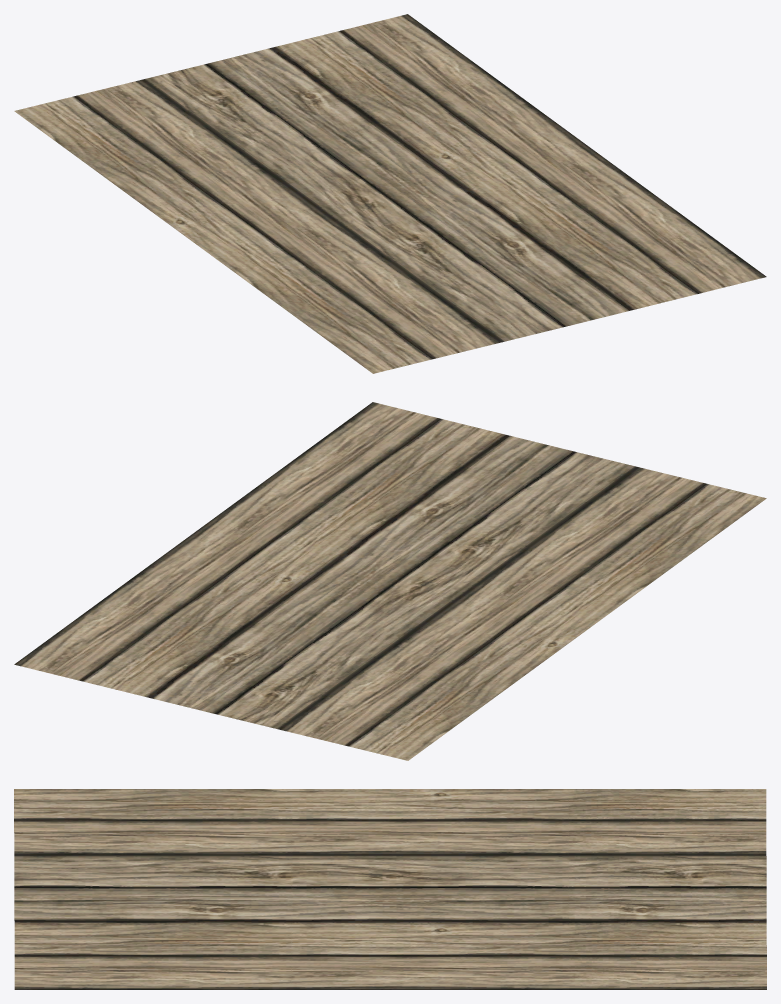
File: LAKETOWN_WAREHOUSE2_PS_WH2_CEILING83837.fbx
The picture shows the model from 3 angles, top to bottom: view 1: azimuth 30°, elevation 25°; view 2: azimuth 150°, elevation 25°; view 3: azimuth 270°, elevation 25°; orthographic projection. The views are drawn at different scales.
Visible parts, largest first — view 1: LAKETOWN_WAREHOUSE2_PS_WH2_CEILING83837; view 2: LAKETOWN_WAREHOUSE2_PS_WH2_CEILING83837; view 3: LAKETOWN_WAREHOUSE2_PS_WH2_CEILING83837.
Part boxes in pixels (x1,y1,x2,y2): LAKETOWN_WAREHOUSE2_PS_WH2_CEILING83837: (14, 14, 766, 373); LAKETOWN_WAREHOUSE2_PS_WH2_CEILING83837: (14, 402, 766, 760); LAKETOWN_WAREHOUSE2_PS_WH2_CEILING83837: (14, 789, 766, 989).
Bounding box in the file's own units: 23858 × 29.47 × 37688.
1 material, 1 textured.
